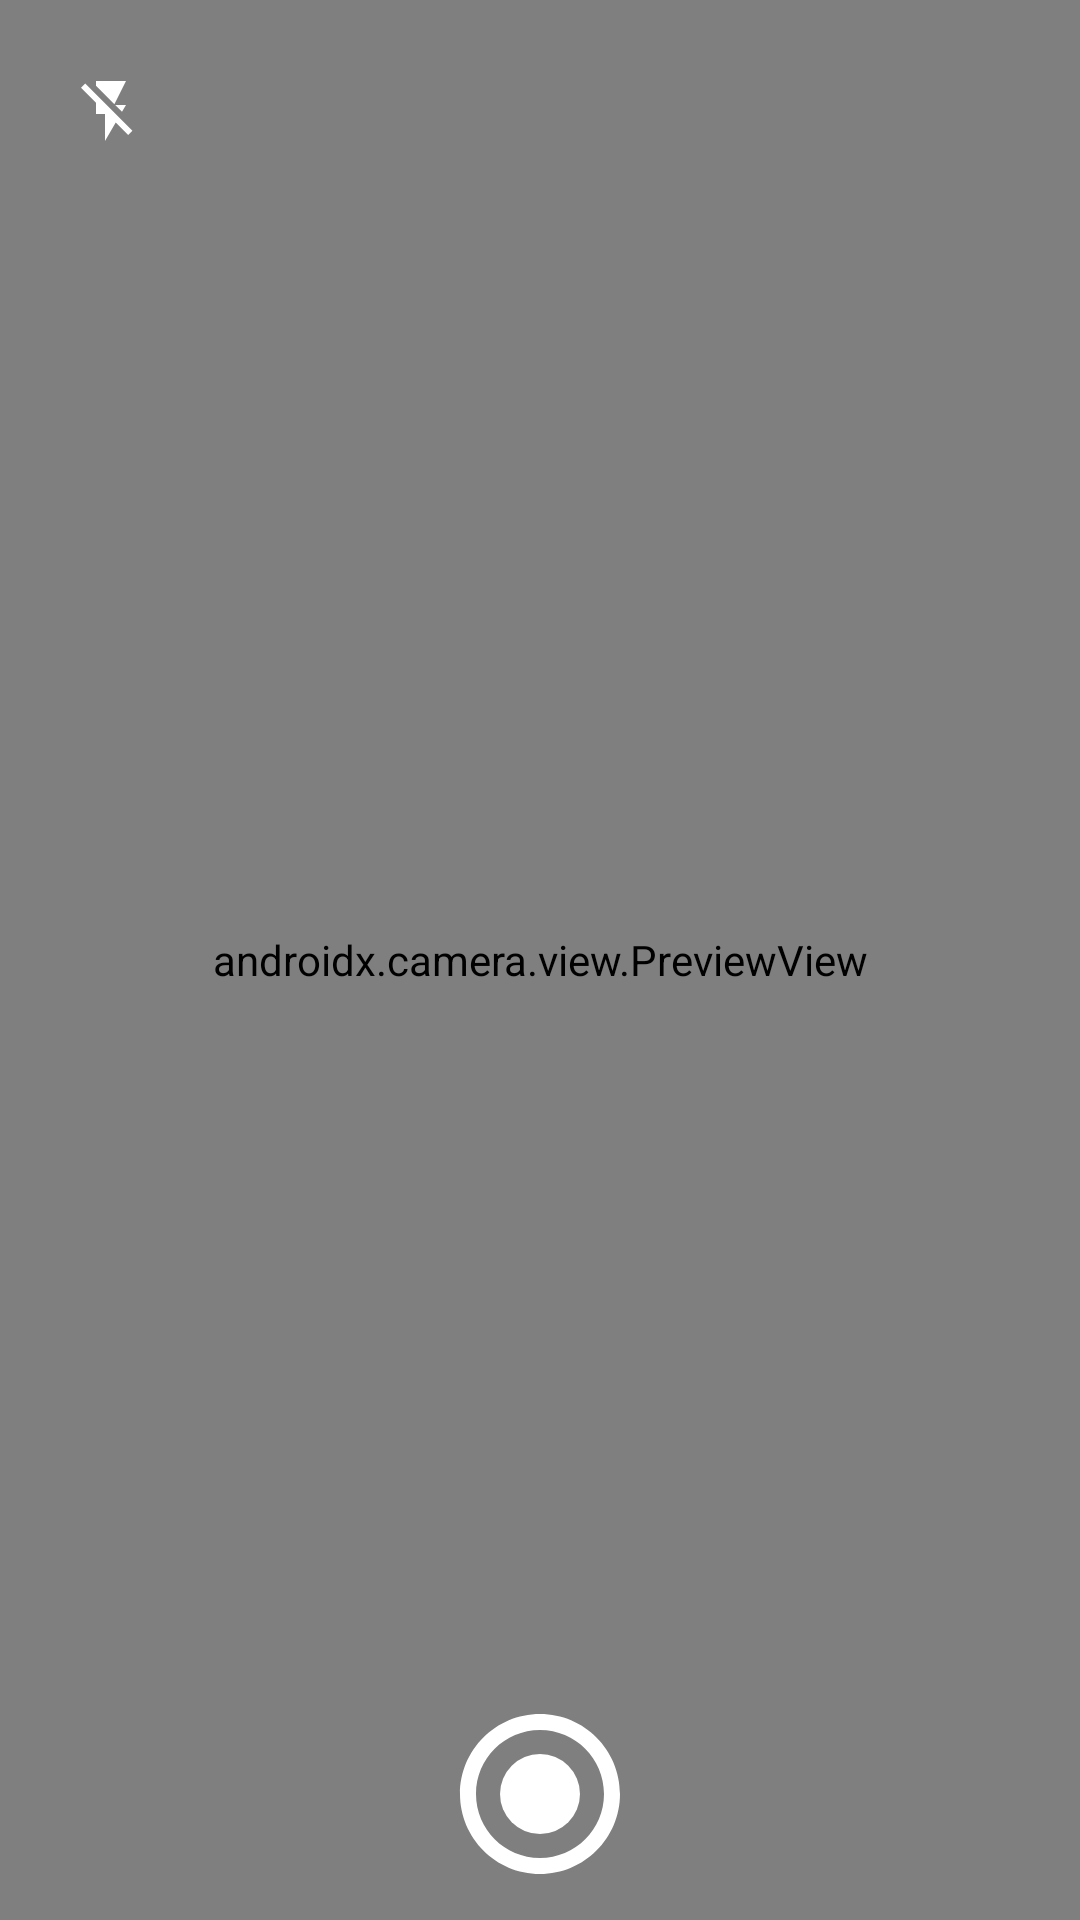

Icon bounding boxes for this 1080 × 1920 phone screenshot, format (x1, y1, x2, y2):
Flash: (81, 81, 132, 141)
Start Capture: (460, 1714, 620, 1874)
